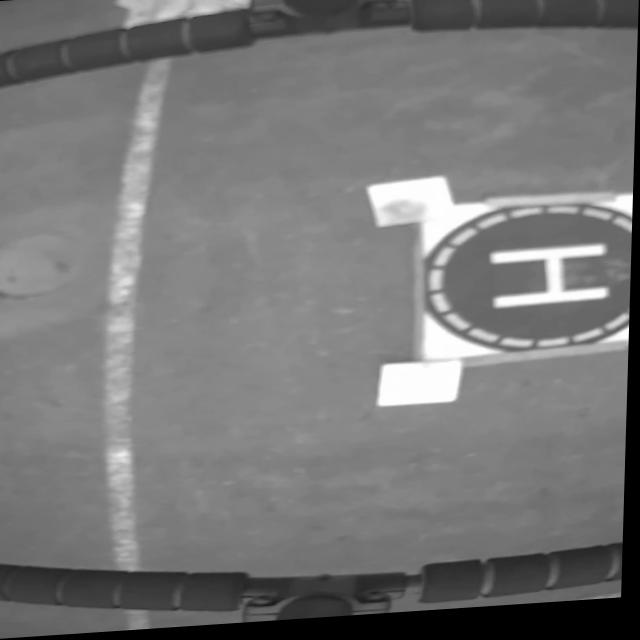Helipad: (492, 250, 613, 315)
